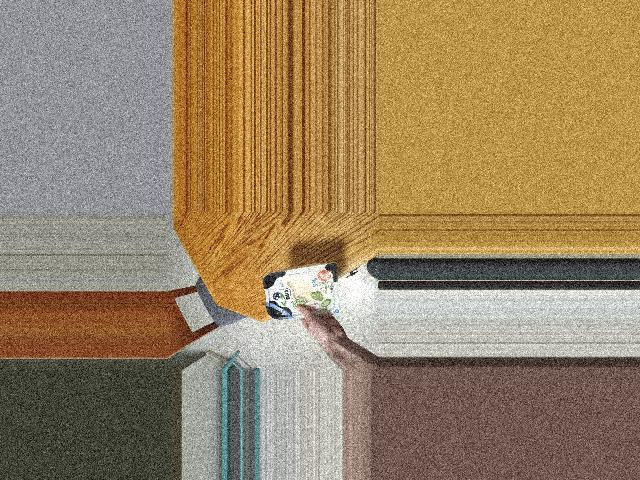cheese: (265, 261, 339, 328)
